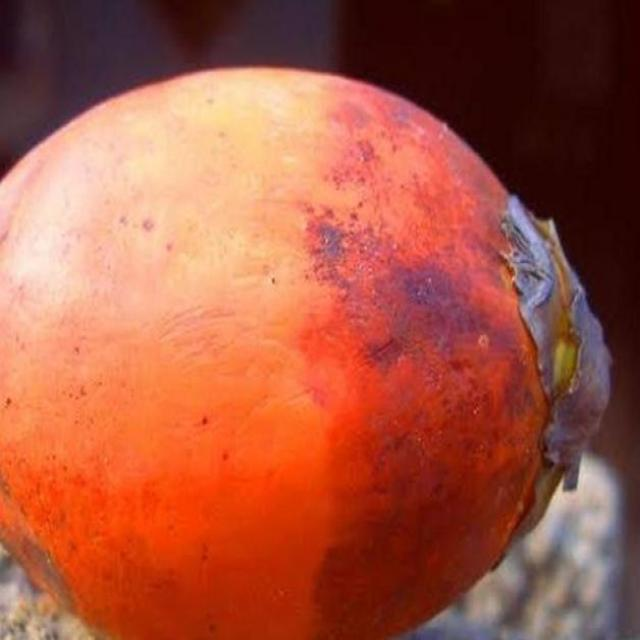good: (0, 68, 610, 639)
